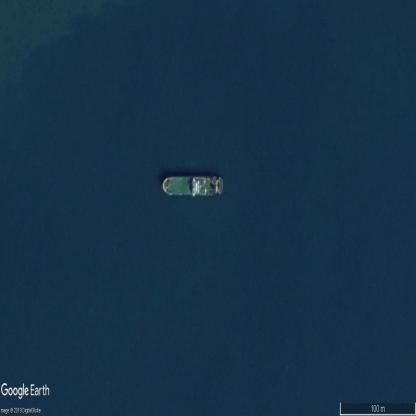ship: (163, 174, 224, 198)
